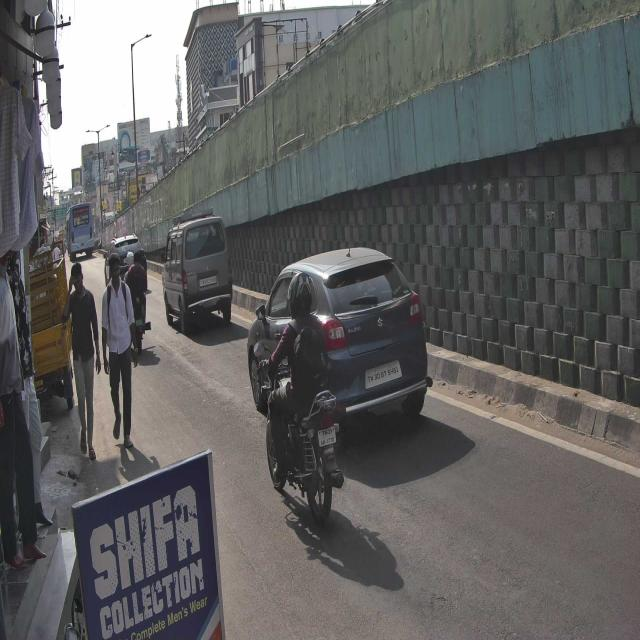single_rider: (252, 266, 344, 533)
